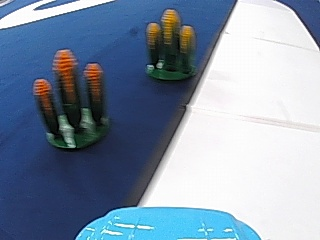corn: (34, 48, 108, 152), (145, 5, 197, 83)
